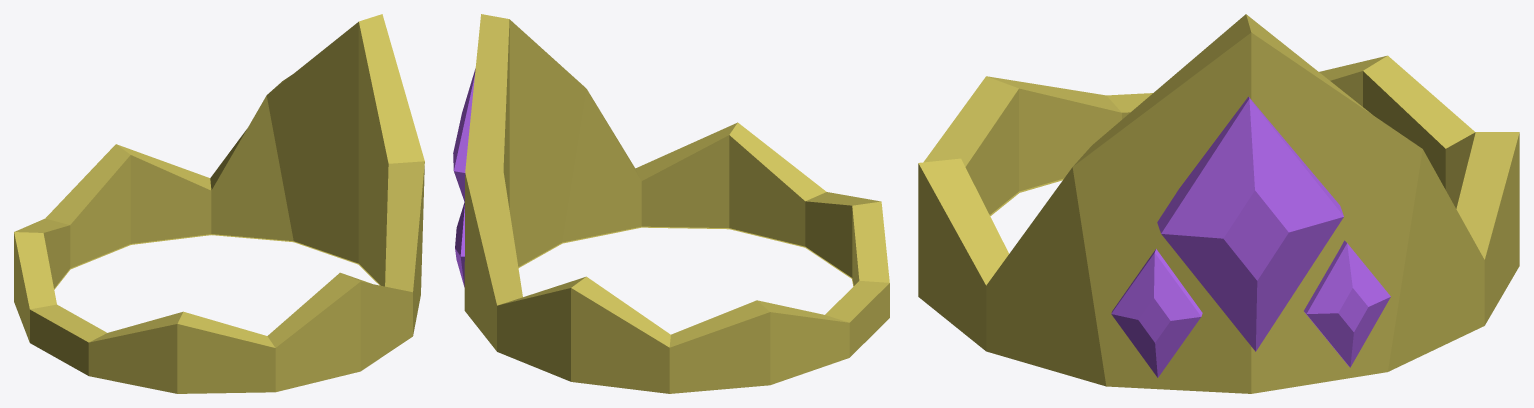
File: crown.fbx
3 renders of one model, left to right at view 1: azimuth 30°, elevation 25°; view 2: azimuth 150°, elevation 25°; view 3: azimuth 270°, elevation 25°, orthographic. The views are drawn at different scales.
Visible parts, largest first — view 1: Crown; view 2: Crown, Gems, Gems.002; view 3: Crown, Gems, Gems.001, Gems.002.
Part boxes in pixels (left/top/right/bottom): Crown: left=14, top=14, right=424, bottom=393; Crown: left=464, top=14, right=889, bottom=393; Gems: left=453, top=68, right=475, bottom=201; Gems.002: left=455, top=201, right=464, bottom=287; Crown: left=918, top=14, right=1519, bottom=393; Gems: left=1157, top=96, right=1343, bottom=351; Gems.001: left=1111, top=249, right=1202, bottom=377; Gems.002: left=1304, top=240, right=1390, bottom=367.
Size of the model in its own units: 210 by 131 by 197.
